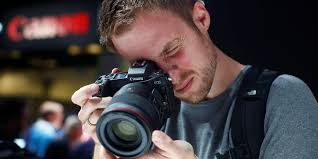camera: (96, 71, 173, 153)
